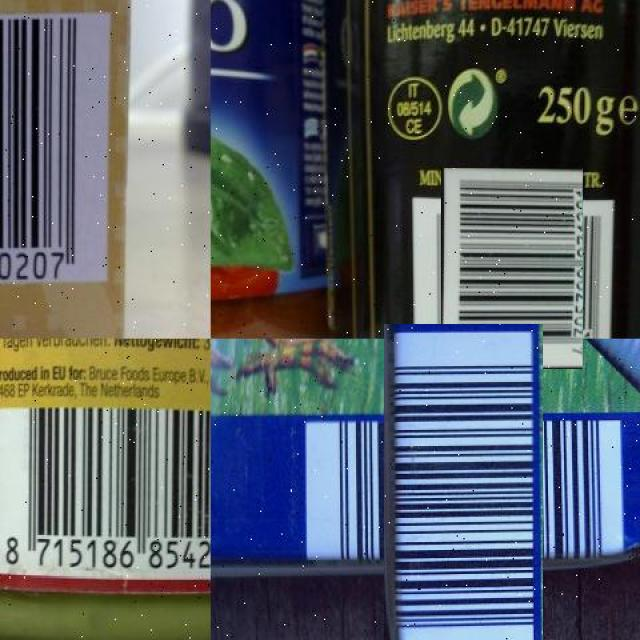Barcode: (341, 367, 586, 612), (0, 406, 211, 578), (426, 182, 598, 354), (0, 13, 108, 284)
